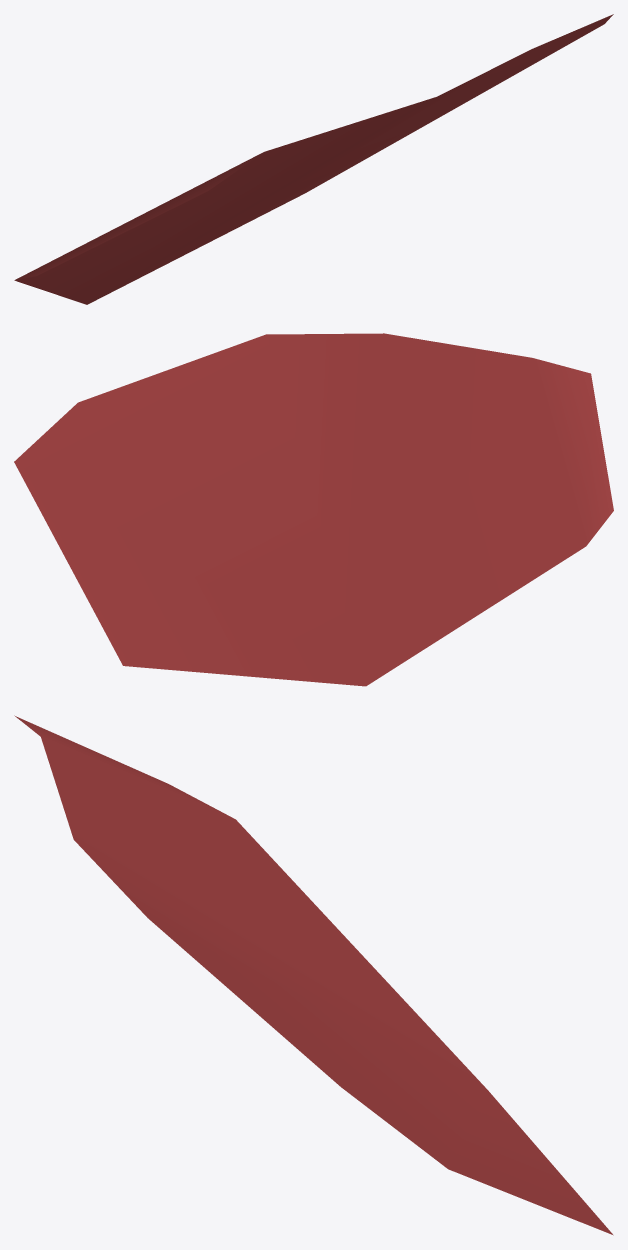
Rendered from longus-capitis-muscle-ol.glb.
3 renders of one model, top to bottom at view 1: azimuth 30°, elevation 25°; view 2: azimuth 150°, elevation 25°; view 3: azimuth 270°, elevation 25°, orthographic. The views are drawn at different scales.
Visible parts, largest first — view 1: Longus capitis muscle.ol; view 2: Longus capitis muscle.ol; view 3: Longus capitis muscle.ol.
Part boxes in pixels (<box>): Longus capitis muscle.ol: <box>14,14,613,304</box>; Longus capitis muscle.ol: <box>14,333,613,686</box>; Longus capitis muscle.ol: <box>14,715,613,1235</box>.
Size of the model in its own units: 0.00833 by 0.00353 by 0.00565.
